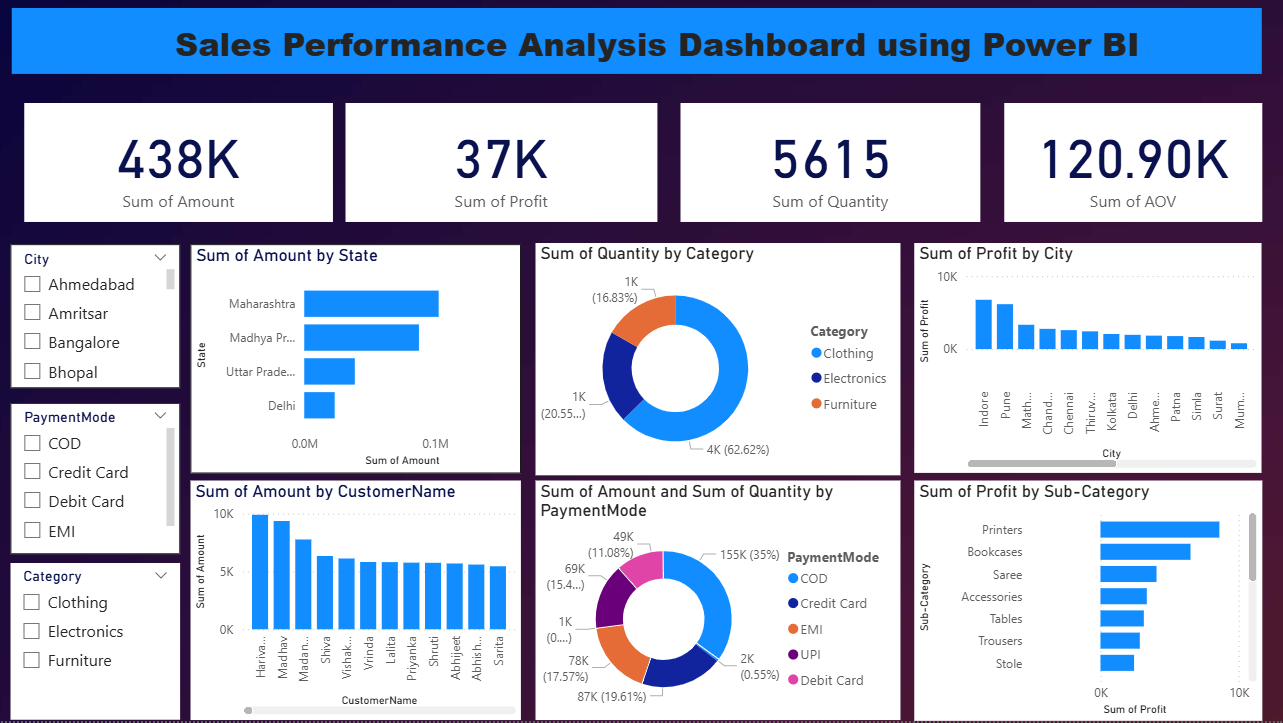

This screenshot's page, from the dashboard's own definition file:
{"tool":"powerbi","page":{"name":"Page 1","canvas":[1280,720],"ordinal":0},"visuals":[{"type":"barChart","fields":{"Y":["Sum(Details-1.Amount)"],"Category":["Orders.State"]},"box":[191.9,245.3,328.9,228],"z":0},{"type":"columnChart","fields":{"Category":["Orders.CustomerName"],"Y":["Sum(Details-1.Amount)"]},"box":[191.9,480.4,328.9,238.1],"z":1000},{"type":"textbox","box":[13.7,10,1244,65.9],"z":2000},{"type":"slicer","fields":{"Values":["Orders.City"]},"box":[13,245.3,168.8,142.8],"z":3000},{"type":"slicer","fields":{"Values":["Details-1.PaymentMode"]},"box":[13,402.5,168.8,150],"z":4000},{"type":"slicer","fields":{"Values":["Details-1.Category"]},"box":[13,562.7,168.8,155.8],"z":5000},{"type":"card","fields":{"Values":["Sum(Details-1.Profit)"]},"box":[346.3,103.9,310.2,118.3],"z":6000},{"type":"card","fields":{"Values":["Sum(Details-1.Quantity)"]},"box":[679.5,103.9,298.7,118.3],"z":7000},{"type":"card","fields":{"Values":["Sum(Details-1.AOV)"]},"box":[1001.3,103.9,256.8,118.3],"z":8000},{"type":"card","fields":{"Values":["Sum(Details-1.Amount)"]},"box":[26,103.9,307.3,118.3],"z":9000},{"type":"donutChart","fields":{"Category":["Details-1.Category"],"Y":["Sum(Details-1.Quantity)"]},"box":[535.3,243.8,363.6,230.8],"z":10000},{"type":"columnChart","fields":{"Category":["Orders.City"],"Y":["Sum(Details-1.Profit)"]},"box":[911.8,243.8,345.8,228.9],"z":11000},{"type":"barChart","fields":{"Category":["Details-1.Sub-Category"],"Y":["Sum(Details-1.Profit)"]},"box":[912,480,346,239],"z":12000},{"type":"donutChart","fields":{"Y":["Sum(Details-1.Amount)","Sum(Details-1.Quantity)"],"Category":["Details-1.PaymentMode"]},"box":[535.3,480.4,363.6,238.1],"z":13000}]}

Visuals, with their boxes in screenshot pixels (x1, y1, x2, y2), scaled from the page's 1280x720 canvas onto the 1283x723 screenshot:
barChart - Sum(Details-1.Amount) x Orders.State: 192,246,522,475
columnChart - Orders.CustomerName x Sum(Details-1.Amount): 192,482,522,721
textbox: 14,10,1261,76
slicer - Orders.City: 13,246,182,390
slicer - Details-1.PaymentMode: 13,404,182,555
slicer - Details-1.Category: 13,565,182,721
card - Sum(Details-1.Profit): 347,104,658,223
card - Sum(Details-1.Quantity): 681,104,980,223
card - Sum(Details-1.AOV): 1004,104,1261,223
card - Sum(Details-1.Amount): 26,104,334,223
donutChart - Details-1.Category x Sum(Details-1.Quantity): 537,245,901,477
columnChart - Orders.City x Sum(Details-1.Profit): 914,245,1261,475
barChart - Details-1.Sub-Category x Sum(Details-1.Profit): 914,482,1261,722
donutChart - Sum(Details-1.Amount) x Sum(Details-1.Quantity): 537,482,901,721
